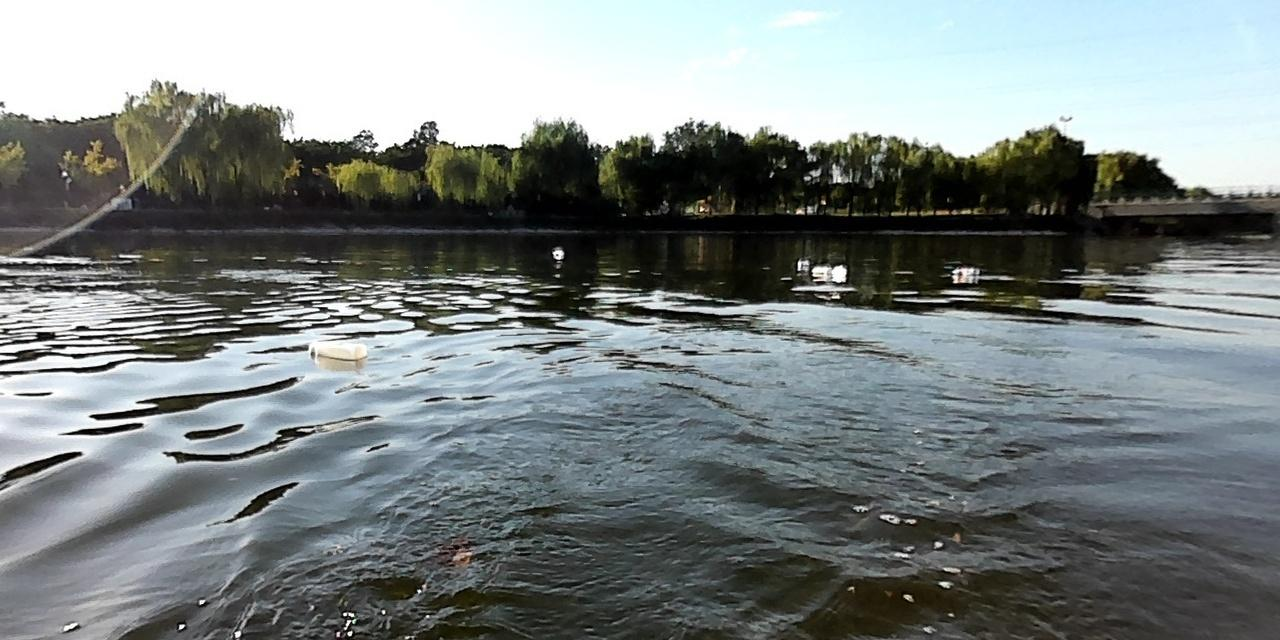bottle: (305, 336, 364, 362), (947, 261, 983, 277), (809, 261, 835, 276)
